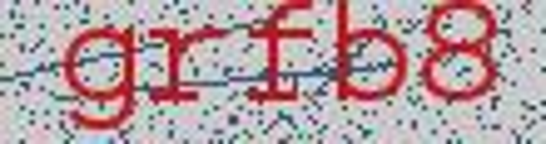8: (418, 1, 504, 110)
b: (328, 1, 407, 107)
f: (241, 1, 320, 114)
g: (52, 14, 139, 137)
r: (145, 17, 226, 114)
